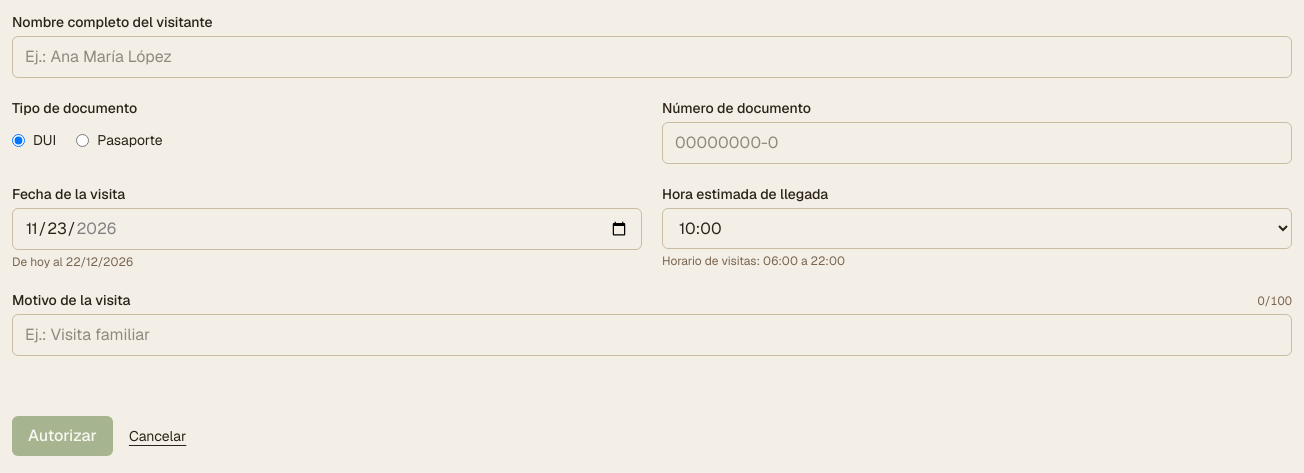
Test: H14. Preautorización de visitantes › AC2: al autorizar muestra el código grande, el visitante, la fecha y la vigencia con Copiar código
Step 1. Type "Roberto Díaz" into the field labelled "Nombre completo del visitante" → (652,57), box [12, 36, 1292, 78]
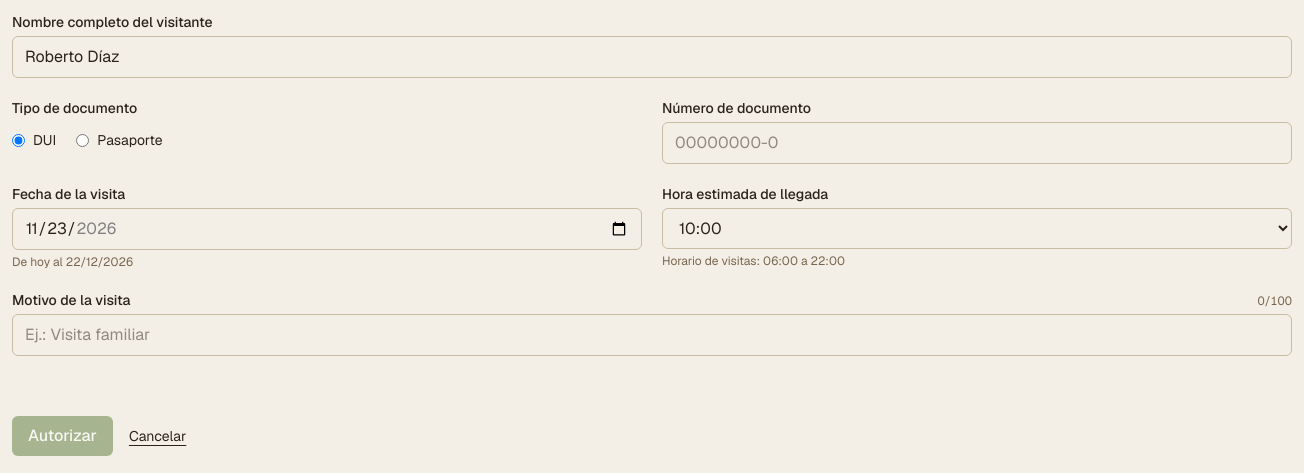
Step 2. Type "09876543-2" into the field with id "documentNumber" → (977,143), box [662, 122, 1292, 164]
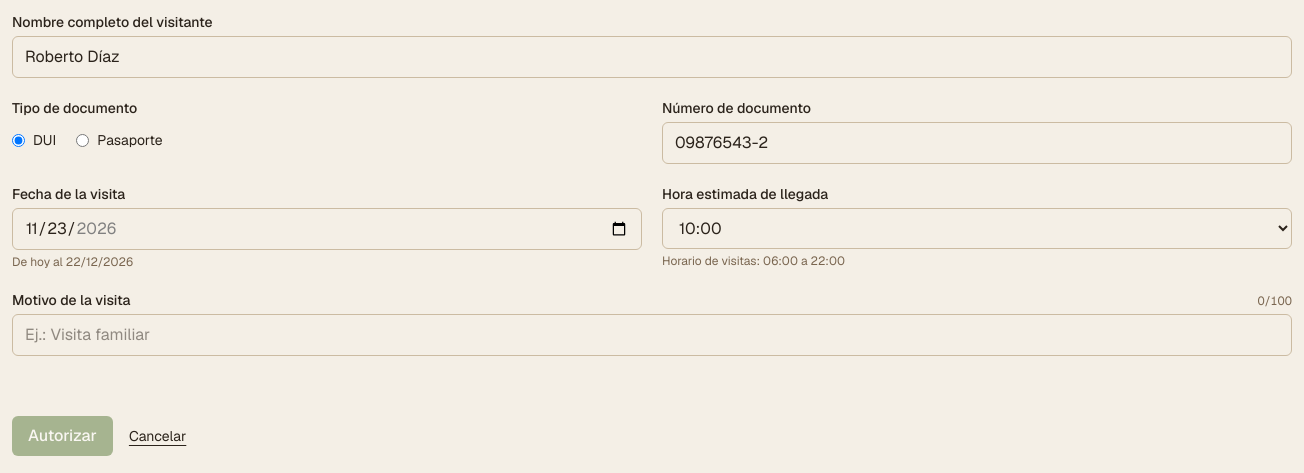
Step 3. Type "Visita familiar" into the field with id "reason" → (652,335), box [12, 314, 1292, 356]
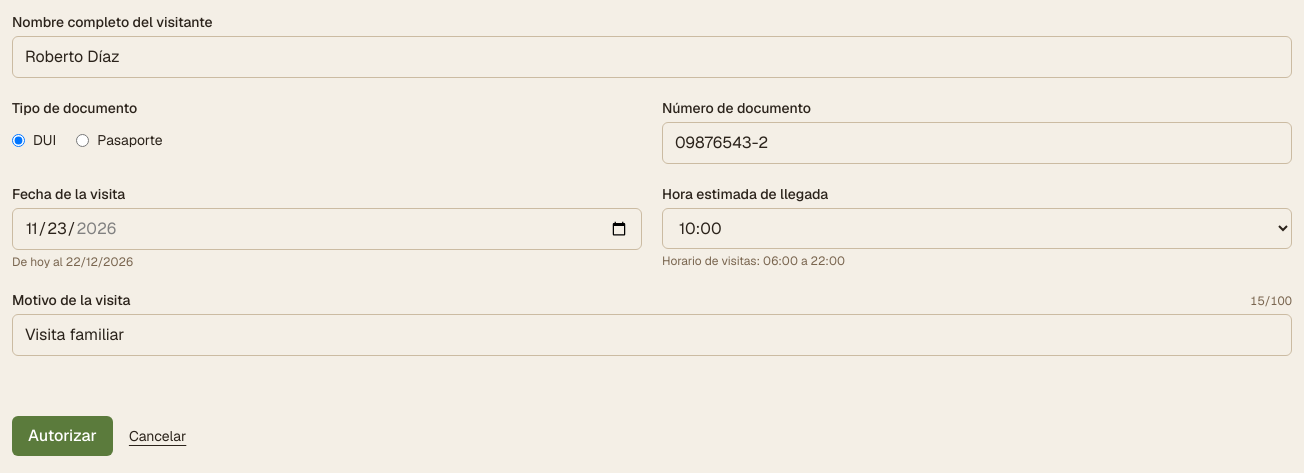
Step 4. Click the button "Autorizar" → (62,436), box [12, 416, 113, 456]
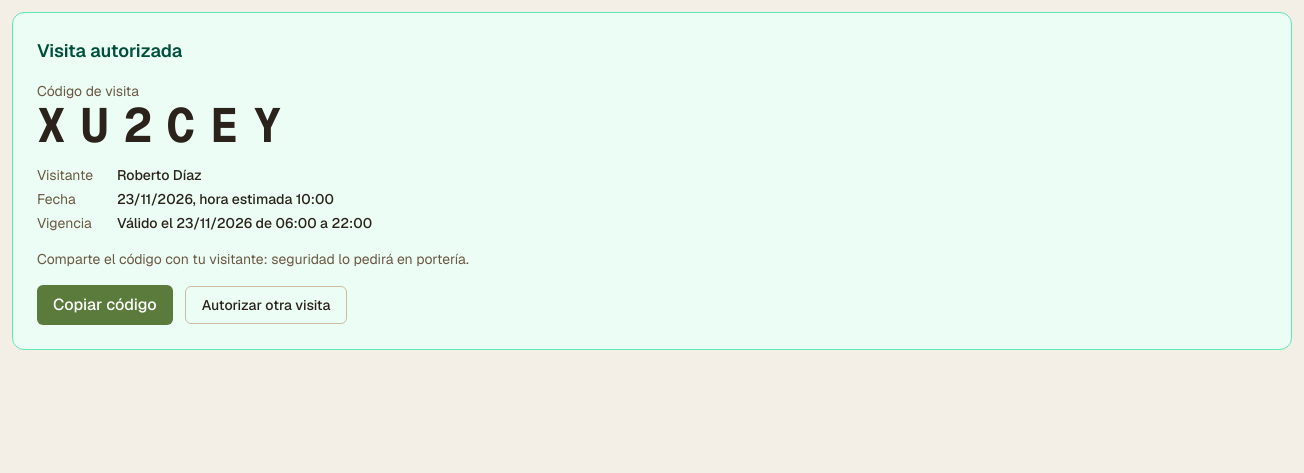
Check: the message reads "Visita autorizada", box [37, 39, 182, 62]
Check: the text named "Código X U 2 C E Y" reads "XU2CEY", box [37, 94, 296, 156]
Check: the text "Roberto Díaz" is shown, box [117, 166, 202, 184]
